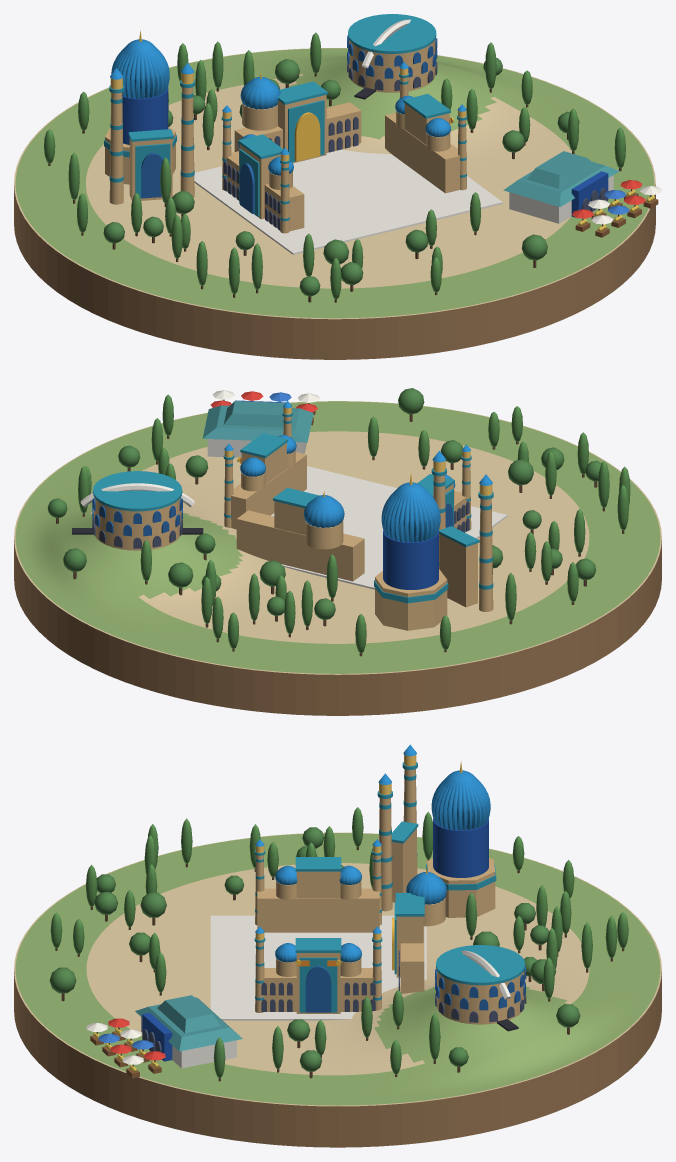
Rendered from samarkand.glb.
3 views of the same model, one above another, from view 1: azimuth 30°, elevation 25°; view 2: azimuth 150°, elevation 25°; view 3: azimuth 270°, elevation 25° (orthographic).
Visible parts, largest first — view 1: DECO-land, DECO-base, DECO-trees, rg-square, rg-sherdor-facade, ob-parapet, ga-dome, ob-drum, ga-drum, rg-tilyakori-facade, sb-roof-0, sb-roof-1 (+22 smaller); view 2: DECO-land, DECO-base, DECO-trees, rg-square, rg-tilyakori-facade, ga-dome, ga-drum, ga-octagon, ob-parapet, ob-drum, ga-portal-block, rg-sherdor-facade (+13 smaller); view 3: DECO-land, DECO-base, DECO-trees, rg-square, rg-ulughbeg-facade, ga-dome, ga-drum, ob-parapet, ob-drum, ga-octagon, rg-sherdor-facade, sb-roof-0 (+16 smaller).
Part boxes in pixels (x1,y1,x2,y2): DECO-land: [15, 48, 654, 318]; DECO-base: [14, 48, 655, 359]; DECO-trees: [44, 32, 625, 302]; rg-square: [194, 149, 502, 254]; rg-sherdor-facade: [385, 112, 460, 193]; ob-parapet: [348, 14, 436, 53]; ga-dome: [111, 39, 169, 98]; ob-drum: [349, 39, 435, 92]; ga-drum: [122, 87, 168, 144]; rg-tilyakori-facade: [234, 102, 361, 152]; sb-roof-0: [503, 161, 619, 206]; sb-roof-1: [527, 151, 595, 188]; DECO-land: [15, 401, 660, 673]; DECO-base: [14, 401, 661, 715]; DECO-trees: [47, 388, 630, 656]; rg-square: [271, 466, 507, 589]; rg-tilyakori-facade: [236, 510, 364, 581]; ga-dome: [381, 482, 440, 542]; ga-drum: [383, 530, 438, 589]; ga-octagon: [375, 569, 447, 630]; ob-parapet: [93, 471, 182, 511]; ob-drum: [94, 497, 181, 550]; ga-portal-block: [439, 534, 477, 607]; rg-sherdor-facade: [231, 452, 306, 529]; DECO-land: [15, 833, 660, 1105]; DECO-base: [14, 832, 661, 1147]; DECO-trees: [49, 807, 628, 1081]; rg-square: [210, 915, 426, 1020]; rg-ulughbeg-facade: [257, 888, 379, 932]; ga-dome: [431, 770, 490, 830]; ga-drum: [433, 818, 488, 877]; ob-parapet: [436, 945, 525, 985]; ob-drum: [437, 970, 524, 1024]; ga-octagon: [427, 858, 495, 917]; rg-sherdor-facade: [263, 968, 373, 1011]; sb-roof-0: [135, 997, 242, 1051].
Bounding box in the file's own units: 2 × 0.628 × 2.
